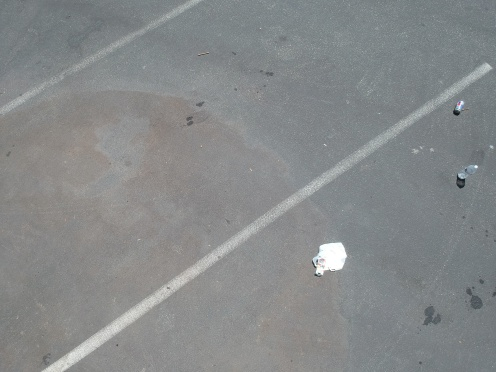bottle: (454, 157, 482, 184)
can: (453, 95, 466, 115)
plastic bag: (310, 238, 349, 278)
